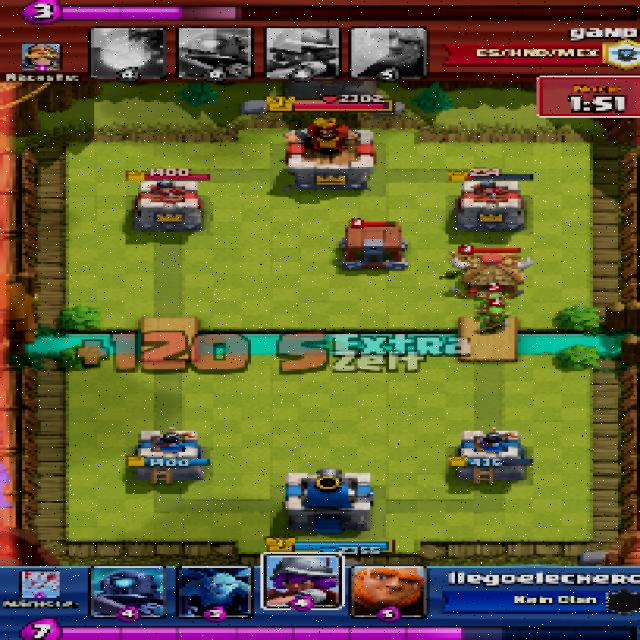Enemy-GoblinHut: (446, 253, 531, 297)
Enemy-SpearGoblin: (477, 308, 511, 333), (478, 292, 515, 306)
Player-GoblinCage: (336, 222, 415, 273)
